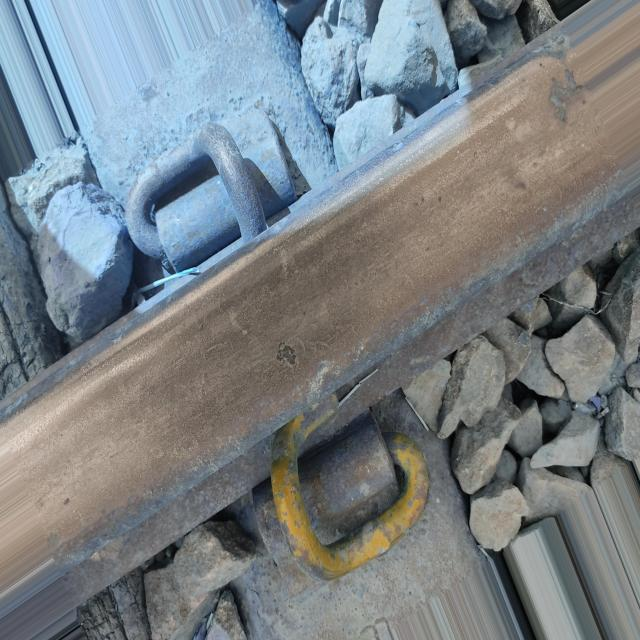Good Fasteners: (230, 390, 449, 608), (112, 87, 300, 295)
